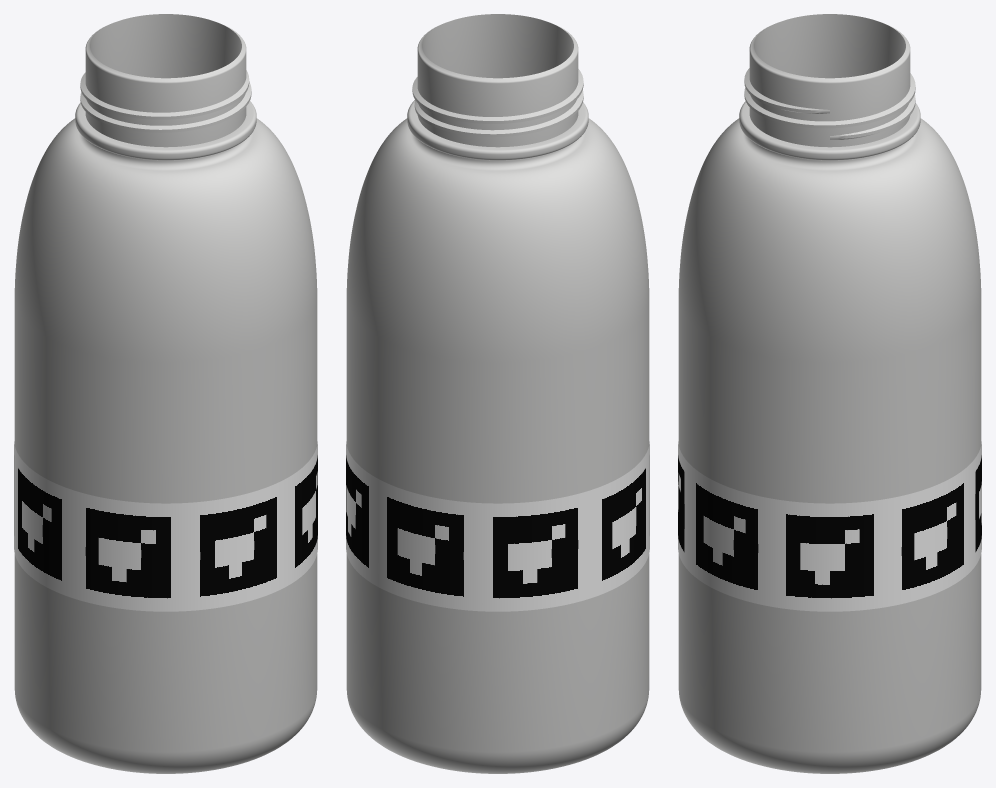
File: PWD-0039_2008830625095.glb
The picture shows the model from 3 angles, left to right: view 1: azimuth 30°, elevation 25°; view 2: azimuth 150°, elevation 25°; view 3: azimuth 270°, elevation 25°; orthographic projection.
Parts seen in each view (by area): view 1: Bote_1L, Label_PWD-0039; view 2: Bote_1L, Label_PWD-0039; view 3: Bote_1L, Label_PWD-0039.
Boxes of the visible parts, x1,y1,x2,y2 form: Bote_1L: (14, 14, 317, 773); Label_PWD-0039: (14, 441, 317, 611); Bote_1L: (346, 14, 649, 773); Label_PWD-0039: (346, 441, 649, 611); Bote_1L: (678, 14, 981, 773); Label_PWD-0039: (678, 441, 981, 611).
Size of the model in its own units: 0.0884 by 0.217 by 0.0884.
2 materials, 1 textured.
